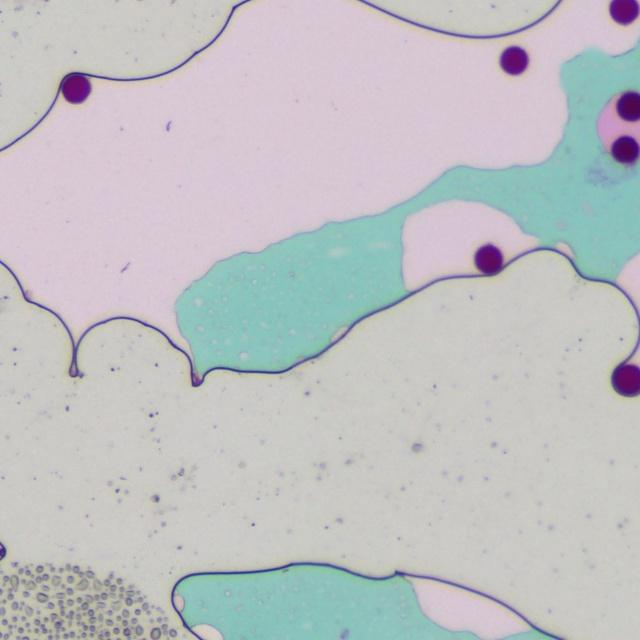viable: (475, 244, 502, 274), (62, 74, 90, 102), (612, 364, 639, 393), (500, 47, 528, 74), (612, 136, 639, 163), (609, 0, 639, 24), (616, 91, 639, 121)
